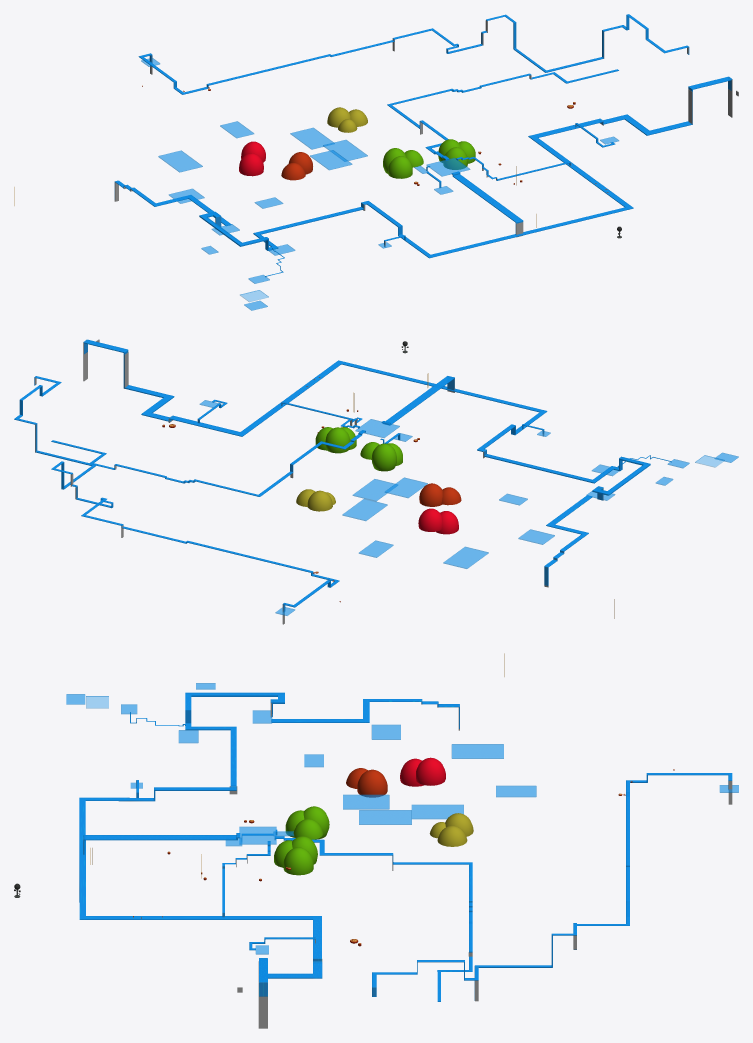
Rendered from Level2.fbx.
3 renders of one model, top to bottom at view 1: azimuth 30°, elevation 25°; view 2: azimuth 150°, elevation 25°; view 3: azimuth 270°, elevation 25°, orthographic. The views are drawn at different scales.
Parts seen in each view (by area): view 1: River46, River56, River55, River45, River, WaterStill29, WaterStill26, WaterStill27, River138, WaterStill28; view 2: River46, River56, River55, River, River45, Hill, WaterStill27, WaterStill29, WaterStill26, River138, WaterStill28, Hill3 (+3 smaller); view 3: River46, River56, River55, River45, River, WaterStill29, WaterStill26, WaterStill27, WaterStill28, Hill11, WaterStill19, Hill9 (+1 smaller).
Boxes of the visible parts, box(x1,y1,x2,y2) form: River46: box(199, 76, 732, 258); River56: box(138, 14, 689, 94); River55: box(387, 69, 618, 160); River45: box(451, 171, 523, 234); River: box(114, 180, 231, 225); WaterStill29: box(323, 140, 367, 161); WaterStill26: box(158, 150, 202, 172); WaterStill27: box(290, 127, 334, 149); River138: box(601, 114, 692, 135); WaterStill28: box(310, 150, 352, 170); River46: box(83, 339, 650, 500); River56: box(14, 376, 339, 612); River55: box(51, 430, 365, 496); River: box(544, 495, 592, 585); River45: box(381, 376, 454, 425); Hill: box(371, 443, 396, 471); WaterStill27: box(342, 498, 387, 520); WaterStill29: box(352, 479, 397, 501); WaterStill26: box(443, 546, 488, 568); River138: box(124, 385, 174, 421); WaterStill28: box(385, 477, 427, 497); Hill3: box(325, 427, 350, 453); River46: box(79, 692, 321, 996); River56: box(372, 773, 732, 1000); River55: box(274, 836, 472, 1001); River45: box(83, 833, 240, 854); River: box(271, 699, 459, 728); WaterStill29: box(359, 810, 411, 824); WaterStill26: box(451, 744, 503, 758); WaterStill27: box(411, 804, 463, 819); WaterStill28: box(343, 794, 389, 809); Hill11: box(357, 769, 387, 797); WaterStill19: box(239, 826, 276, 844); Hill9: box(416, 757, 445, 785).
Size of the model in its own units: 751 by 69.22 by 625.
